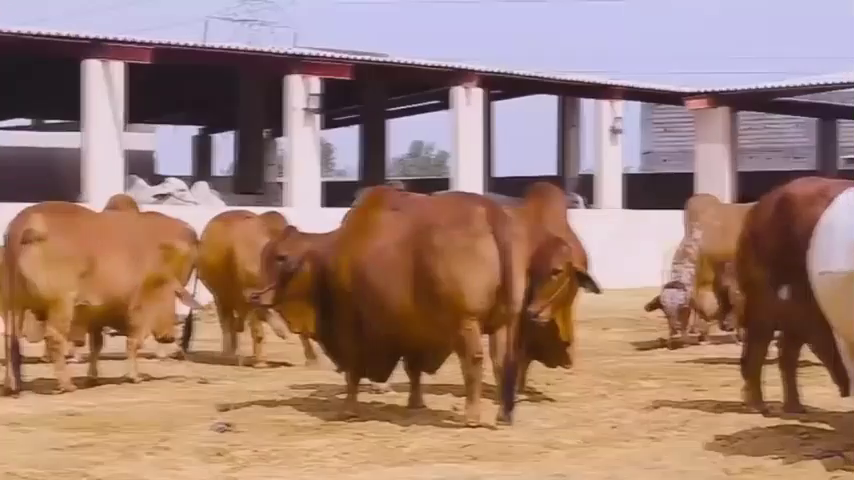bo: (253, 174, 524, 438), (12, 194, 191, 391), (722, 155, 846, 420), (501, 169, 589, 379), (642, 177, 737, 342), (194, 200, 284, 372)
